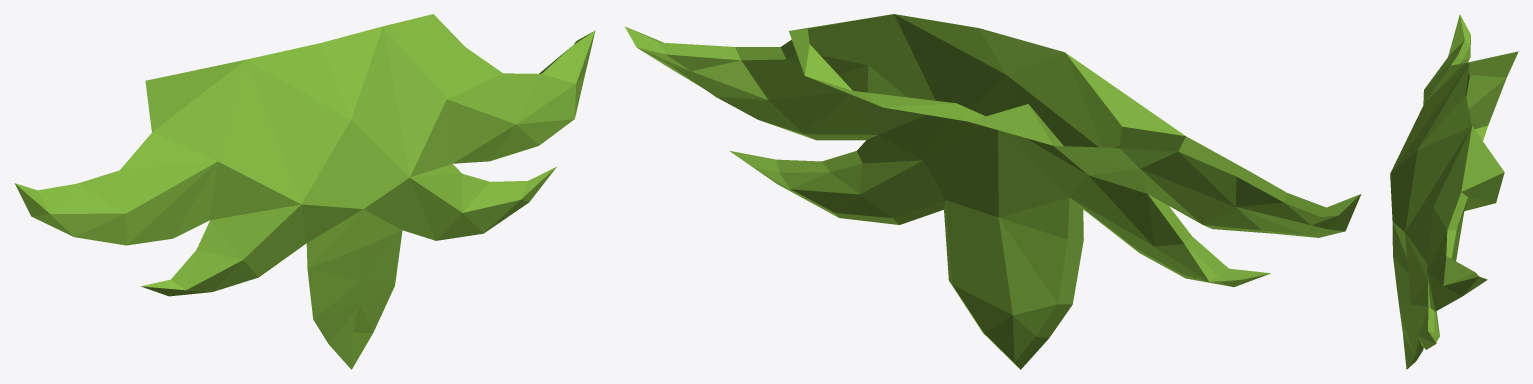
File: GanjaCatNeck.fbx
The picture shows the model from 3 angles, left to right: view 1: azimuth 30°, elevation 25°; view 2: azimuth 150°, elevation 25°; view 3: azimuth 270°, elevation 25°; orthographic projection. The views are drawn at different scales.
Parts seen in each view (by area): view 1: GanjaCatNeck; view 2: GanjaCatNeck; view 3: GanjaCatNeck.
Part boxes in pixels (<box>): GanjaCatNeck: <box>14,14,595,369</box>; GanjaCatNeck: <box>624,14,1361,369</box>; GanjaCatNeck: <box>1390,14,1518,369</box>.
Bounding box in the file's own units: 58.05 × 28.39 × 12.
